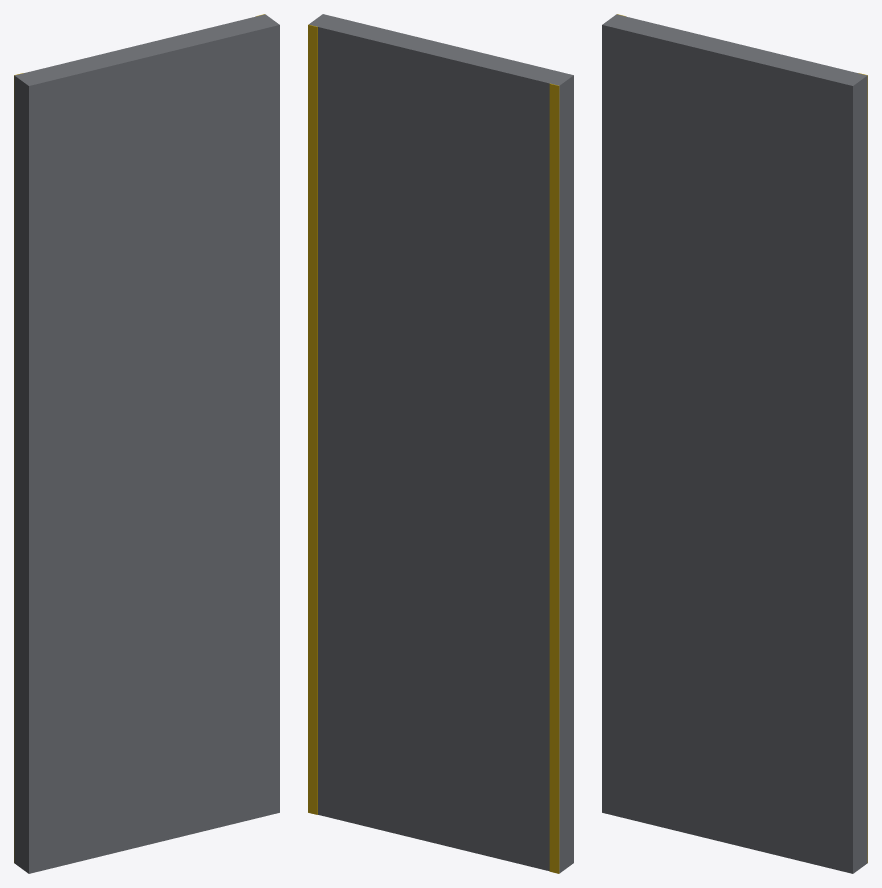
File: station_platform.obj
3 views of the same model, side by side, from view 1: azimuth 30°, elevation 25°; view 2: azimuth 150°, elevation 25°; view 3: azimuth 330°, elevation 25° (orthographic).
Parts seen in each view (by area): view 1: Station_Platform; view 2: Station_Platform; view 3: Station_Platform.
Part boxes in pixels (x1=…): Station_Platform: x1=14, y1=14, x2=279, y2=873; Station_Platform: x1=308, y1=14, x2=573, y2=873; Station_Platform: x1=602, y1=14, x2=867, y2=873.
Bounding box in the file's own units: 8 × 24 × 0.82.
